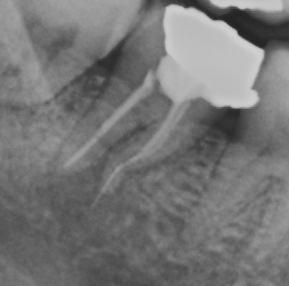fracture: (86, 161, 120, 211)
